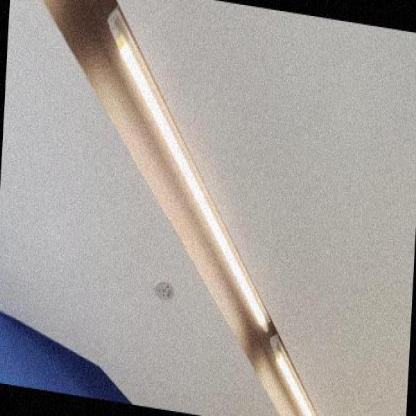light_on: (88, 1, 288, 335), (266, 332, 337, 415)
